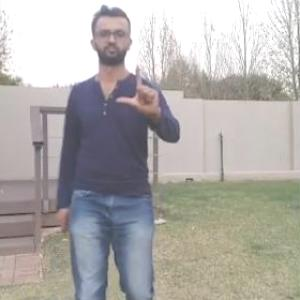land_hand: (115, 59, 164, 118)
